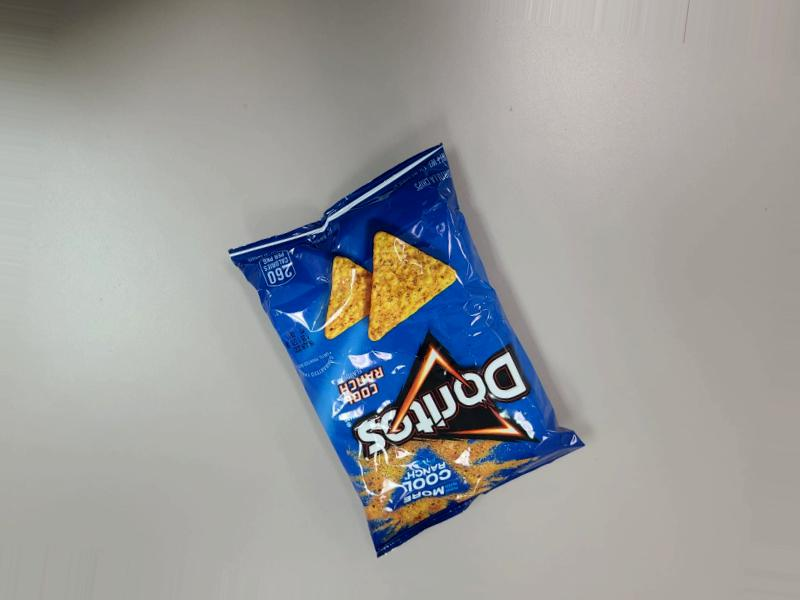doritos: (232, 263, 612, 599)
